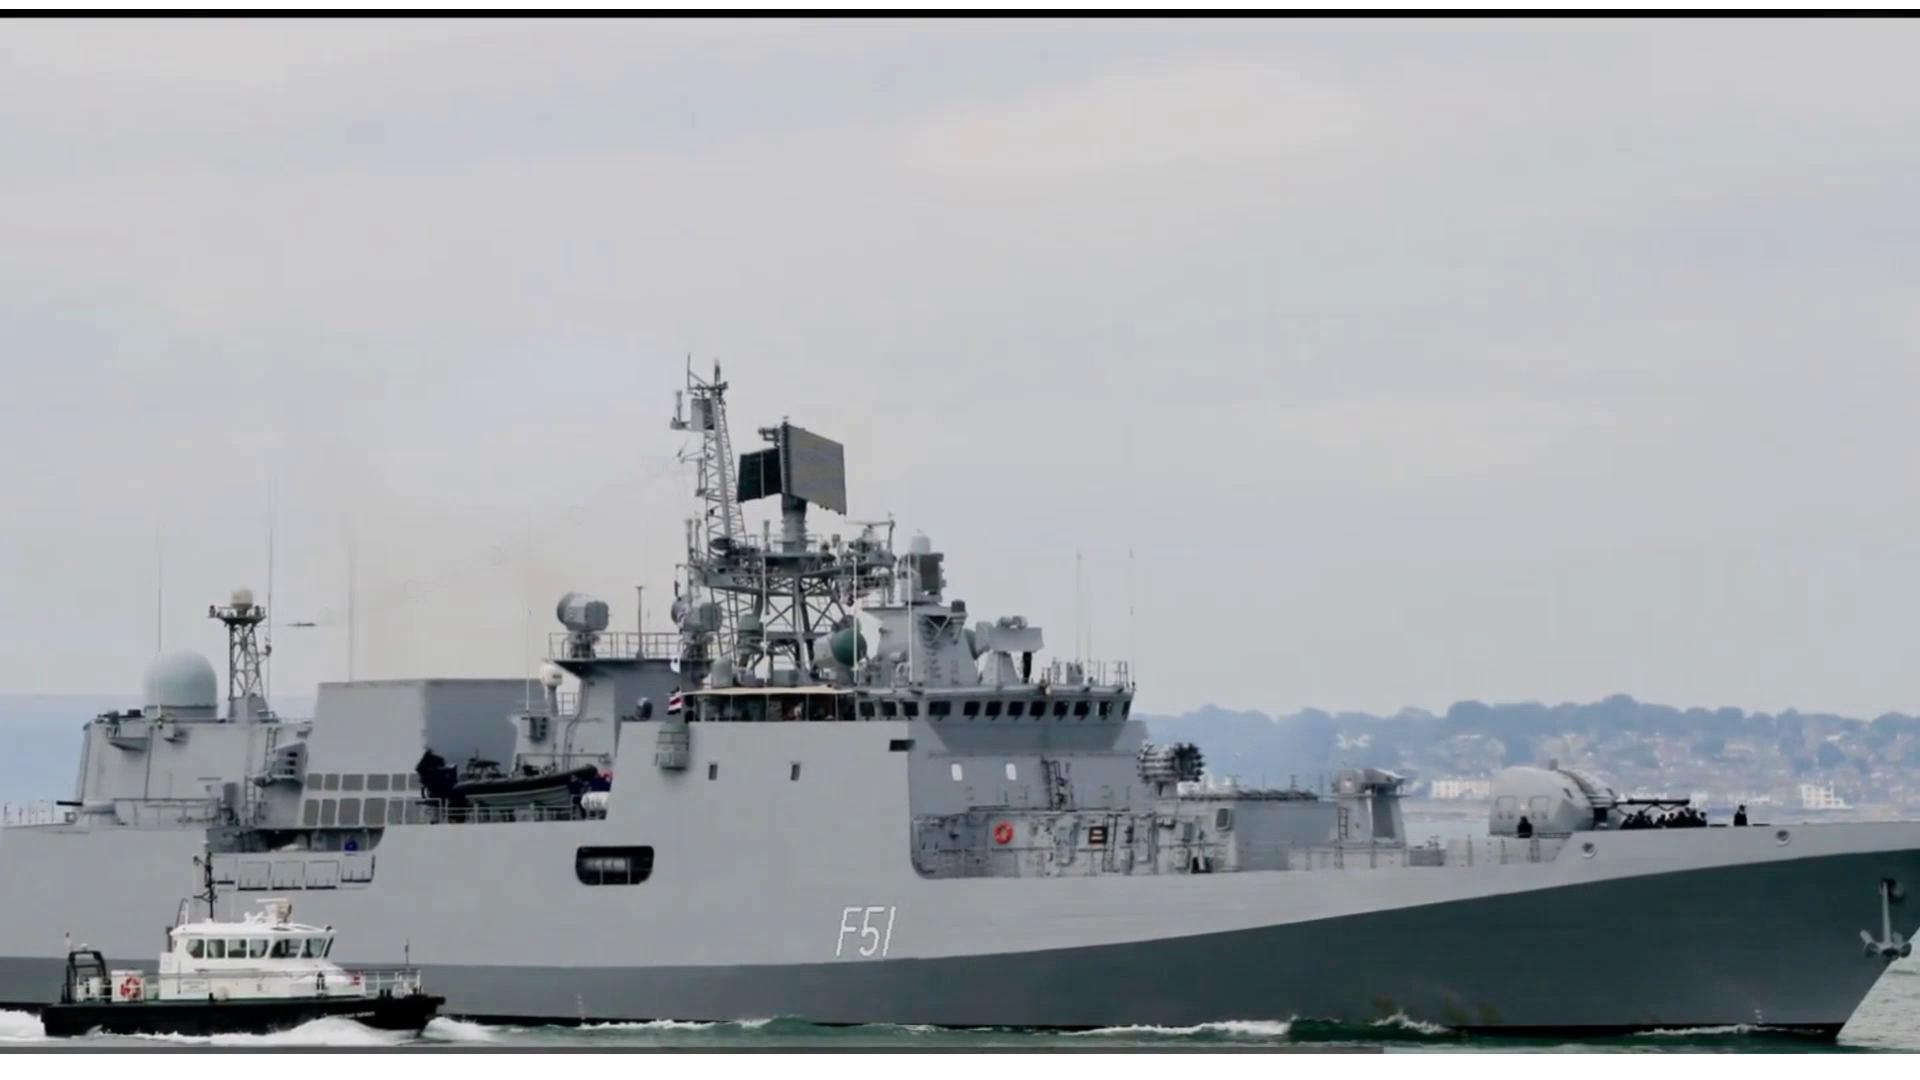OCR: (824, 886, 927, 975)
